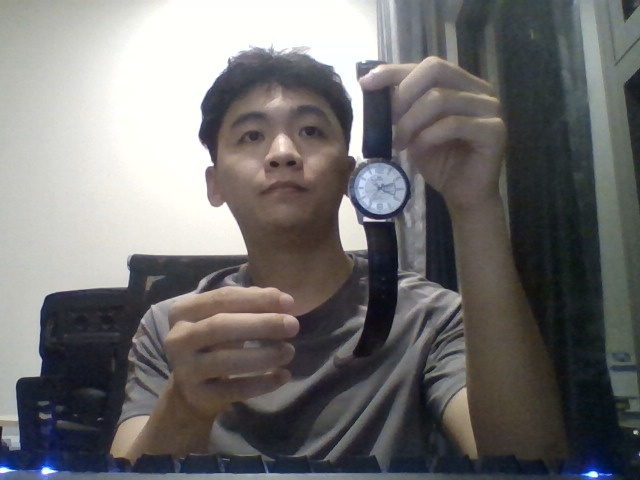watch: (348, 62, 410, 361)
